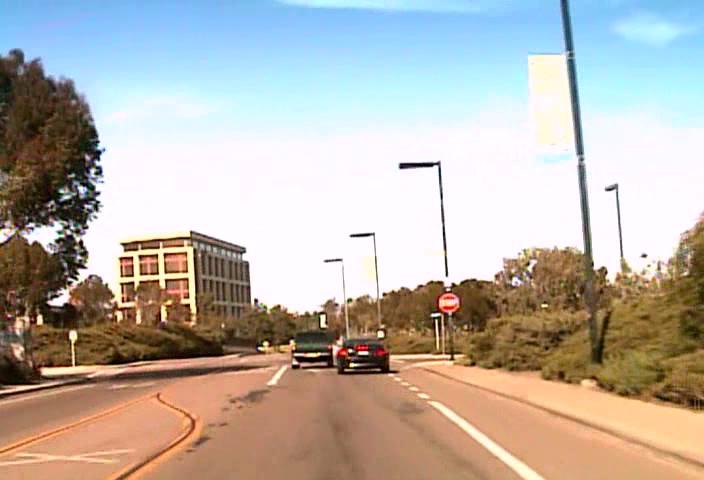stop: (437, 291, 460, 313)
